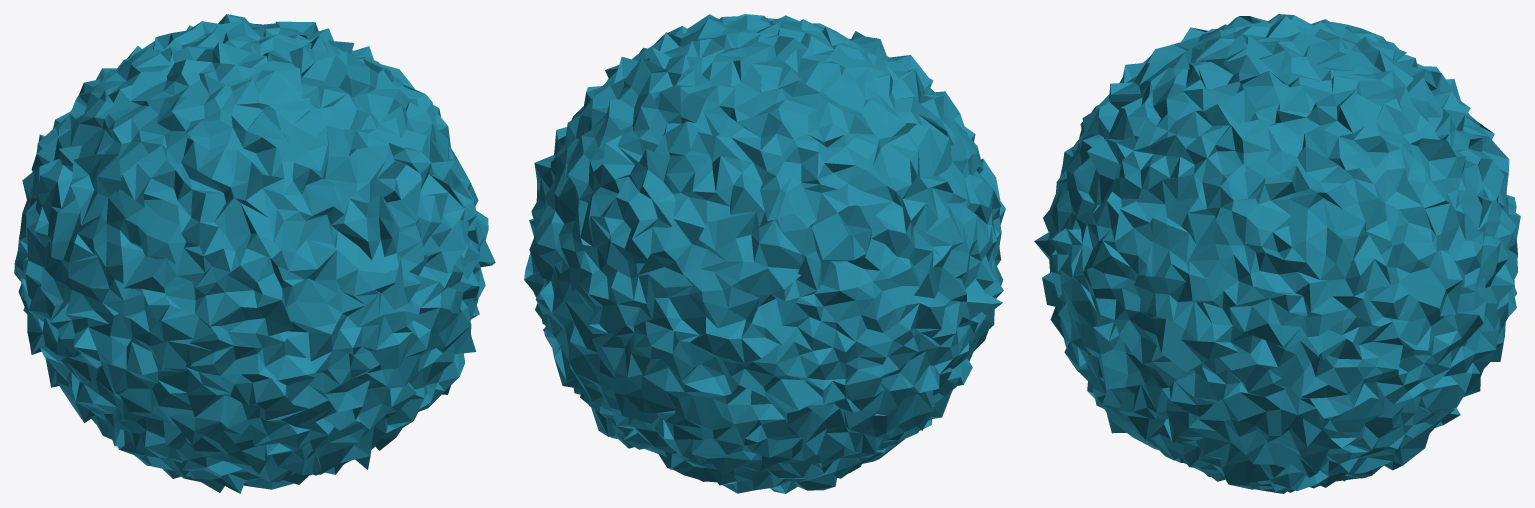
File: Funny diamond planet.FBX
The picture shows the model from 3 angles, left to right: view 1: azimuth 30°, elevation 25°; view 2: azimuth 150°, elevation 25°; view 3: azimuth 270°, elevation 25°; orthographic projection.
Visible parts, largest first — view 1: GeoSphere004; view 2: GeoSphere004; view 3: GeoSphere004.
Boxes of the visible parts, x1=… form: GeoSphere004: x1=14, y1=14, x2=495, y2=493; GeoSphere004: x1=524, y1=14, x2=1005, y2=493; GeoSphere004: x1=1034, y1=14, x2=1520, y2=493.
Size of the model in its own units: 195 by 193 by 192.
